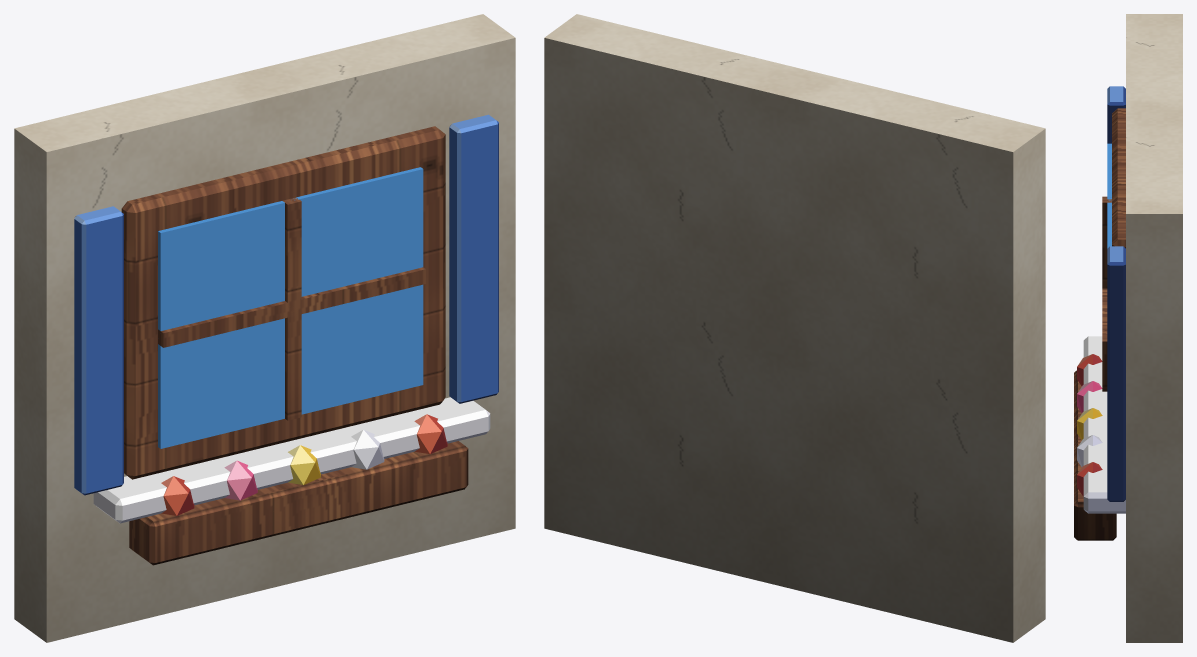
File: window.glb
3 views of the same model, side by side, from view 1: azimuth 30°, elevation 25°; view 2: azimuth 150°, elevation 25°; view 3: azimuth 270°, elevation 25° (orthographic). The views are drawn at different scales.
Parts seen in each view (by area): view 1: window; view 2: window; view 3: window.
Boxes of the visible parts, x1=… form: window: x1=14, y1=14, x2=515, y2=642; window: x1=544, y1=14, x2=1045, y2=642; window: x1=1074, y1=14, x2=1182, y2=642.
Size of the model in its own units: 1 by 1 by 0.23.
11 materials, 11 textured.
